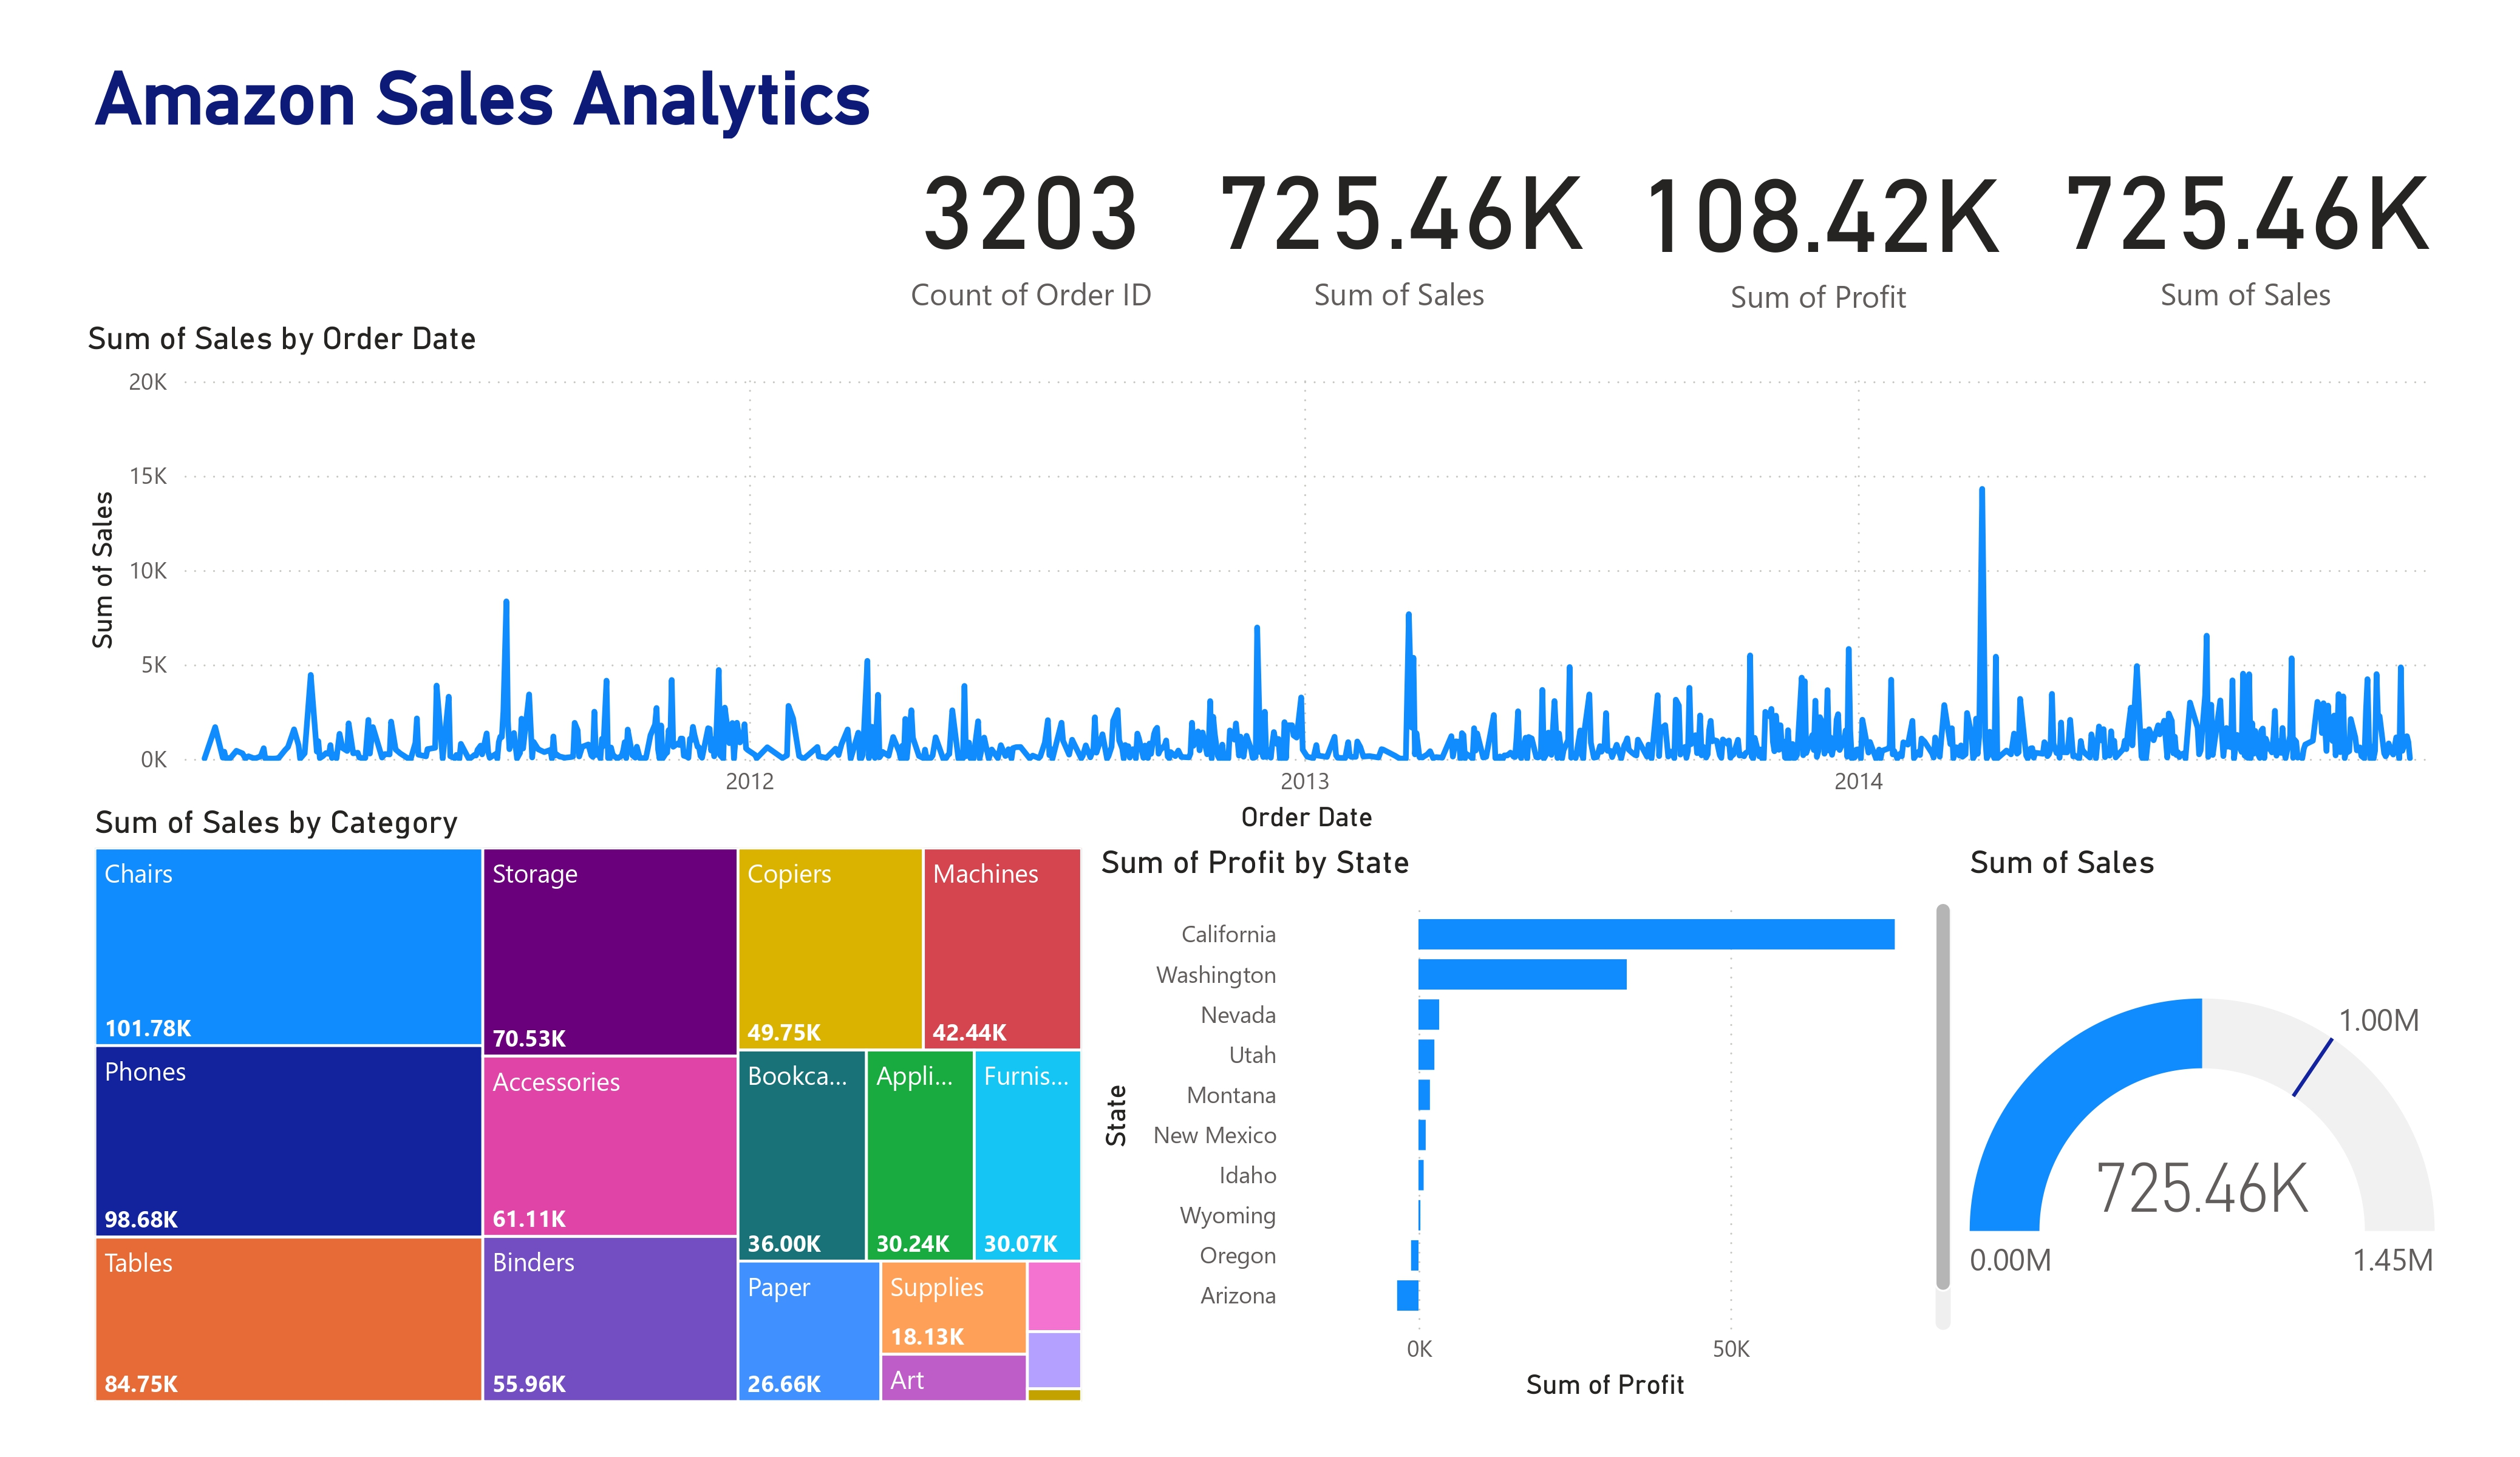

The dashboard page shown, as its layout file describes it:
{"tool":"powerbi","page":{"name":"Page 1","canvas":[1280,720],"ordinal":0},"visuals":[{"type":"card","fields":{"Values":["Sum(Walmart.Sales)"]},"box":[1054.6,40.4,209,103.3],"z":0},{"type":"card","fields":{"Values":["CountNonNull(Walmart.Order ID)"]},"box":[429.9,40.4,179.3,103.3],"z":1000},{"type":"card","fields":{"Values":["Sum(Walmart.Sales)"]},"box":[609.2,40.4,209,103.3],"z":2000},{"type":"card","fields":{"Values":["Sum(Walmart.Profit)"]},"box":[830.1,41.6,209,103.3],"z":3000},{"type":"lineChart","fields":{"Y":["Sum(Walmart.Sales)"],"Category":["Walmart.Order Date"]},"box":[16.6,143.7,1247,276.7],"z":3001},{"type":"treemap","fields":{"Values":["Sum(Walmart.Sales)"],"Group":["Walmart.Category"]},"box":[21.4,399,529.7,320.7],"z":3002},{"type":"barChart","fields":{"Category":["Walmart.State"],"Y":["Sum(Walmart.Profit)"]},"box":[551.1,420.4,458.4,299.3],"z":3003},{"type":"gauge","fields":{"Y":["Sum(Walmart.Sales)"]},"box":[1009.5,420.4,254.1,299.3],"z":3004},{"type":"textbox","title":"Amazon Sales Analytics","box":[21.2,5,428.8,72.5],"z":3005}]}

Visuals, with their boxes in screenshot pixels (x1, y1, x2, y2):
card - Sum(Walmart.Sales): l=2047, t=122, r=2443, b=318
card - CountNonNull(Walmart.Order ID): l=861, t=122, r=1202, b=318
card - Sum(Walmart.Sales): l=1202, t=122, r=1598, b=318
card - Sum(Walmart.Profit): l=1621, t=124, r=2017, b=321
lineChart - Sum(Walmart.Sales) x Walmart.Order Date: l=77, t=318, r=2443, b=843
treemap - Sum(Walmart.Sales) x Walmart.Category: l=86, t=803, r=1091, b=1411
barChart - Walmart.State x Sum(Walmart.Profit): l=1091, t=843, r=1961, b=1411
gauge - Sum(Walmart.Sales): l=1961, t=843, r=2443, b=1411
"Amazon Sales Analytics" textbox: l=86, t=55, r=899, b=192
